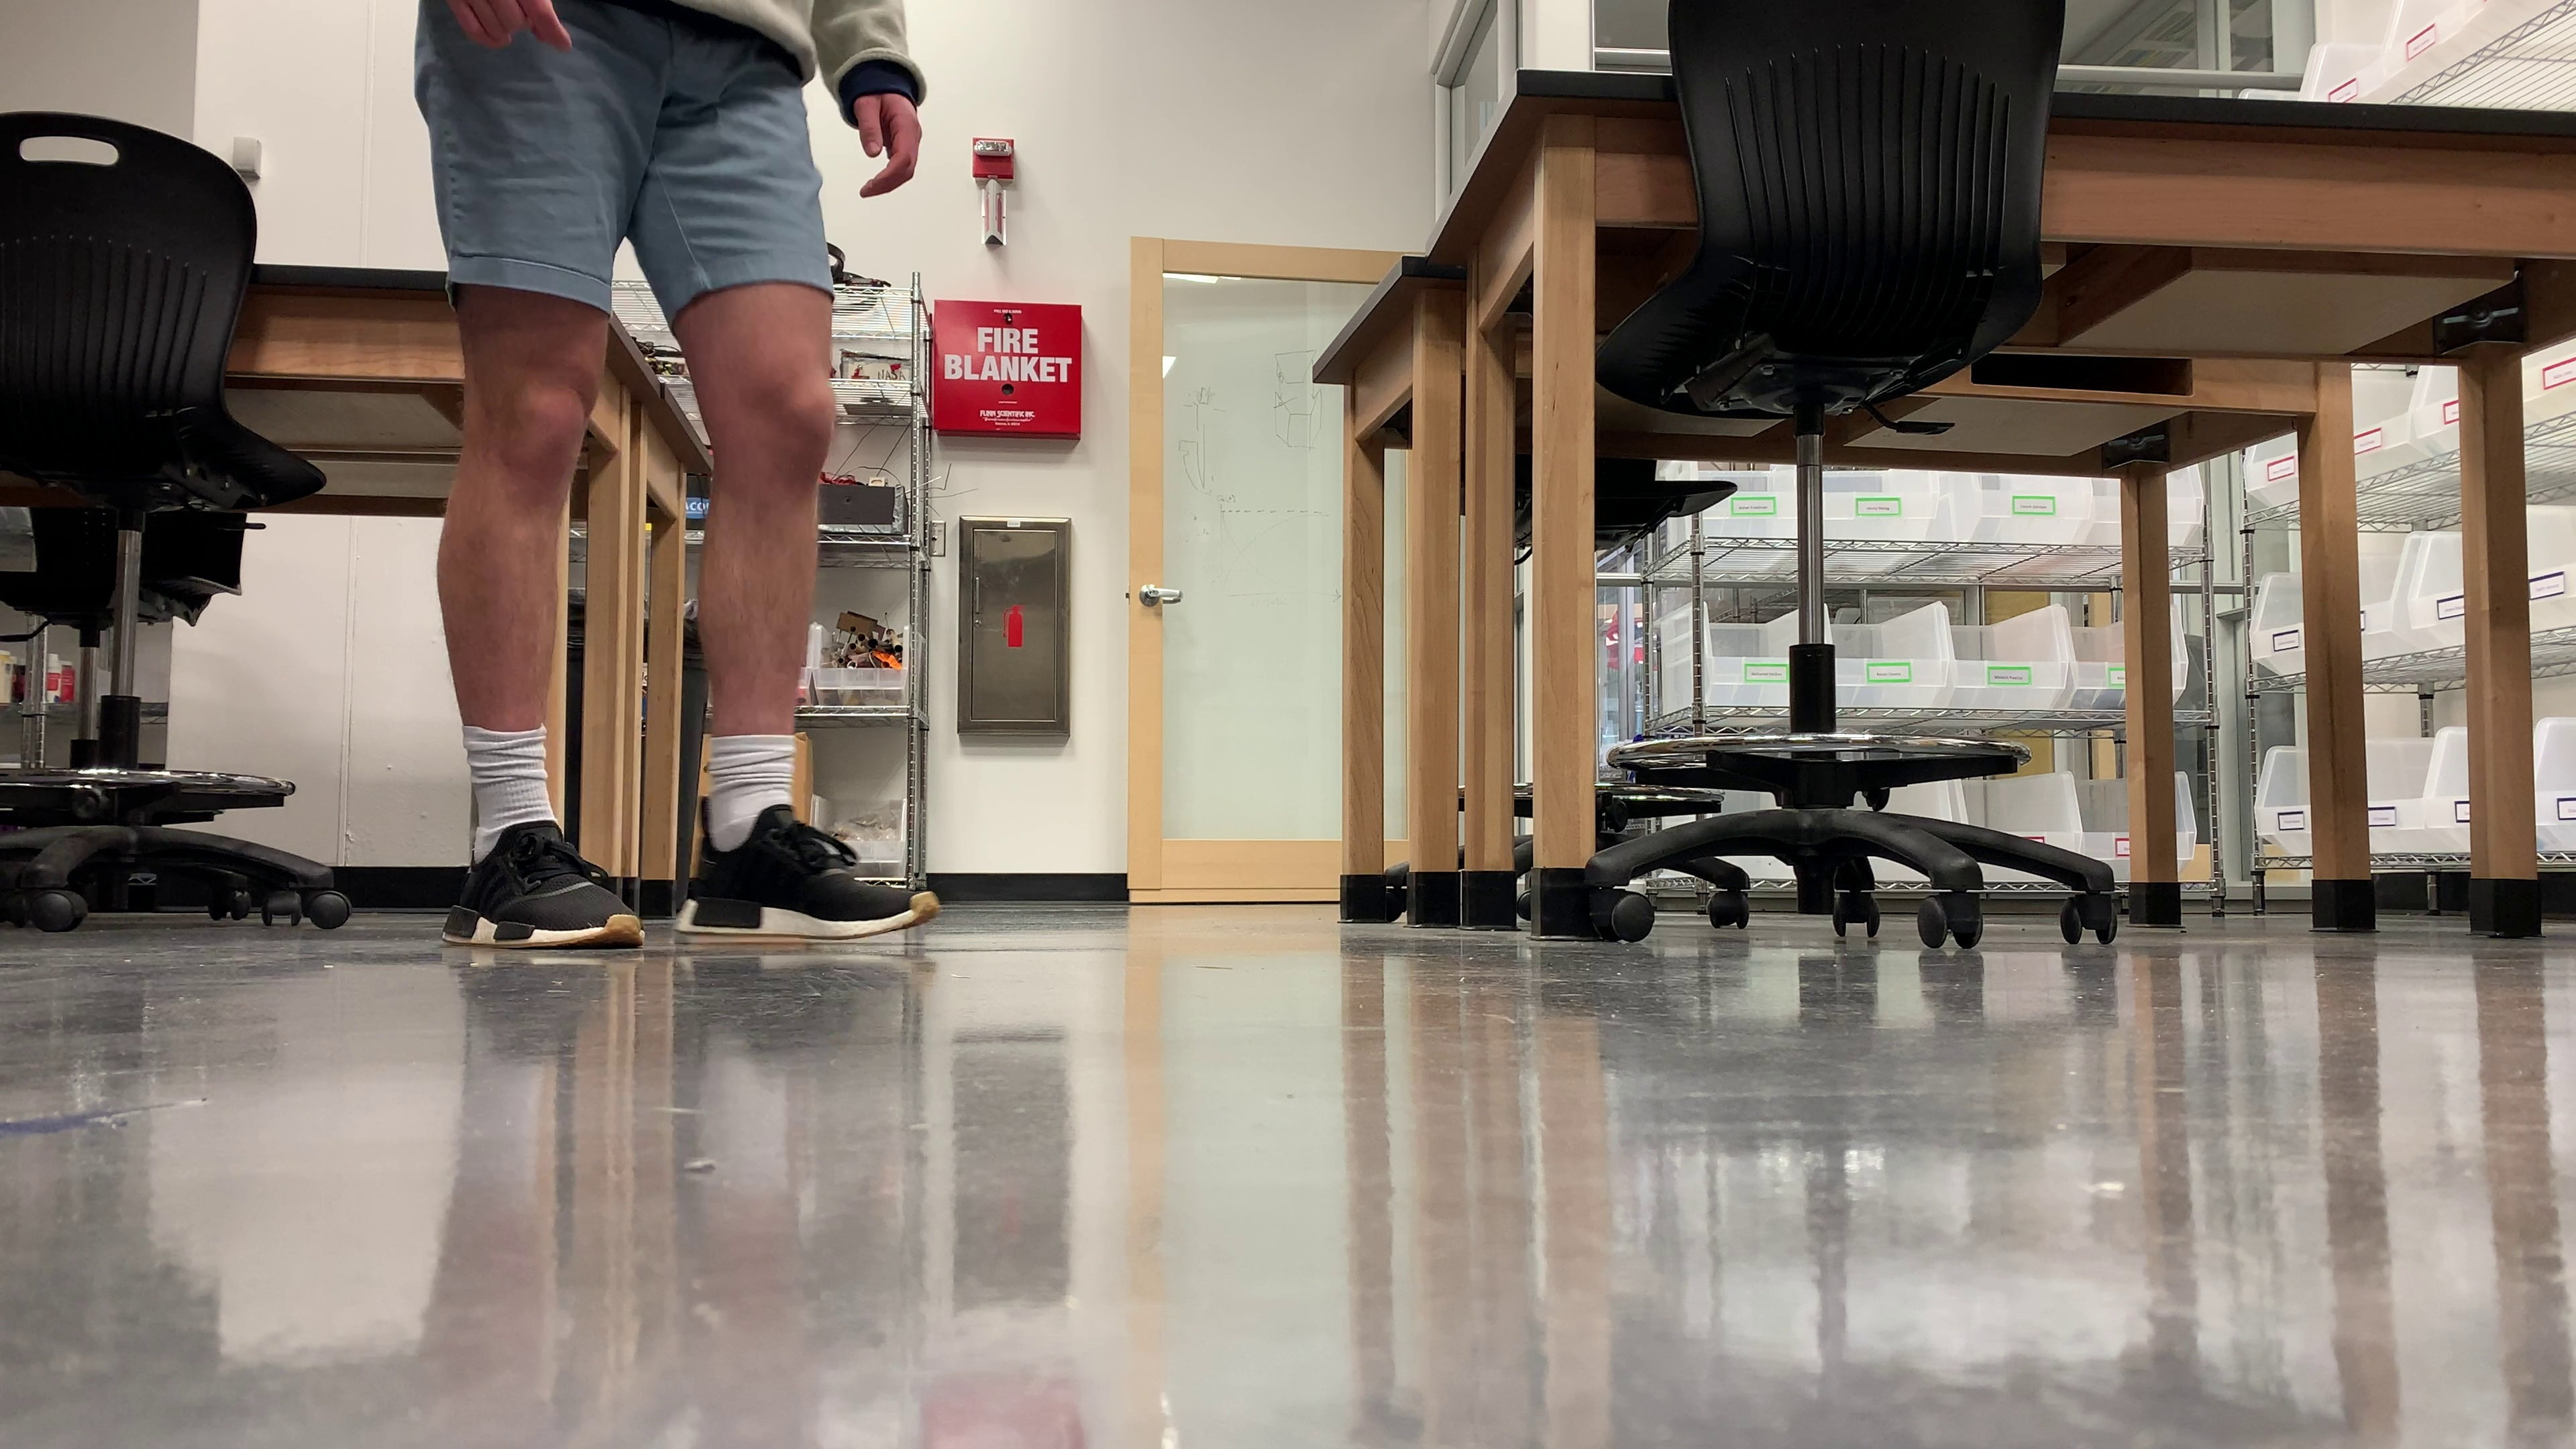shoe: (674, 800, 939, 938), (442, 824, 642, 950)
